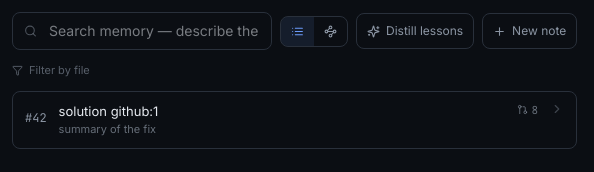
Test: MemoryBrowser — search › reports no results when the search comes back empty
expect the text "solution github:1" is shown: met, box [59,102,158,118]
Type "nothing matches this" into the field with placeholder "Search memory — describe the problem…" at (142, 31), box [12,12,272,50]
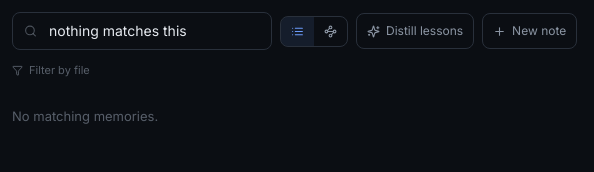
expect the text "No matching memories." is shown: met, box [12,108,158,124]
